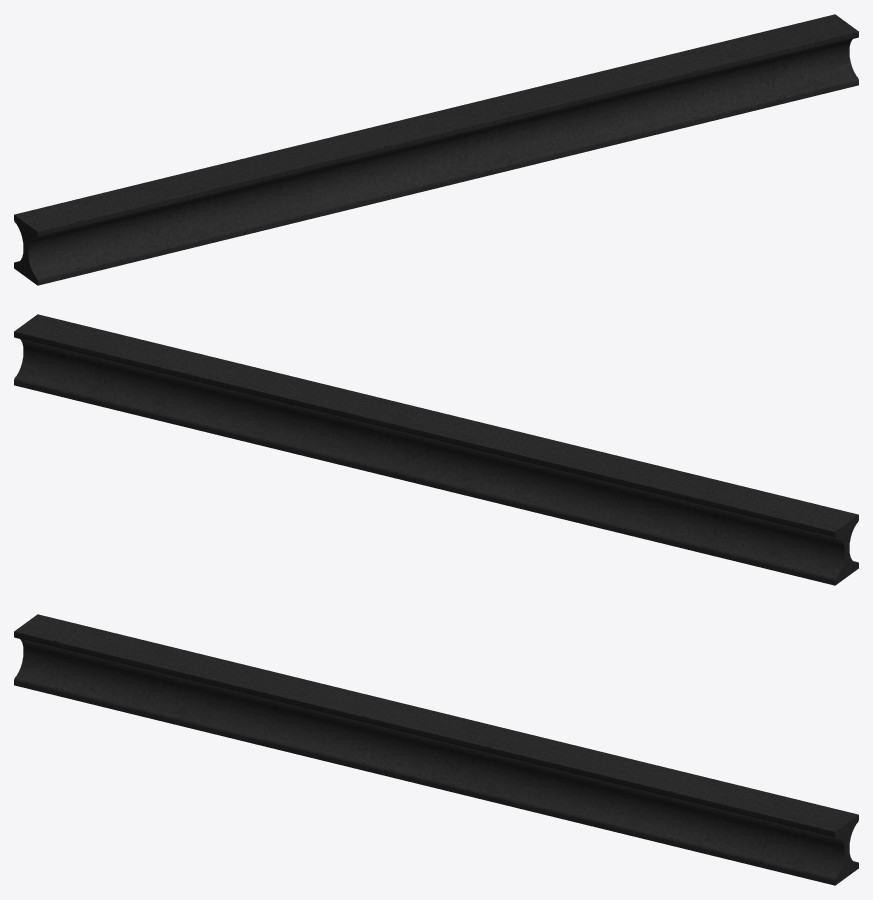
Rendered from beam_5.obj.
3 renders of one model, top to bottom at view 1: azimuth 30°, elevation 25°; view 2: azimuth 150°, elevation 25°; view 3: azimuth 330°, elevation 25°, orthographic.
Parts seen in each view (by area): view 1: beam_5; view 2: beam_5; view 3: beam_5.
Part boxes in pixels (box(x1,y1,x2,y2)): beam_5: box(14, 14, 858, 285); beam_5: box(14, 314, 858, 585); beam_5: box(14, 614, 858, 885).
Bounding box in the file's own units: 4 × 0.25 × 0.2.
